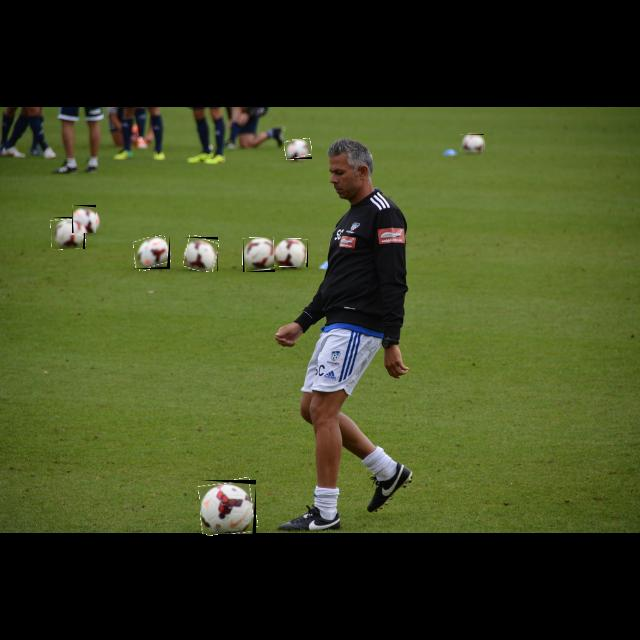Football: (200, 480, 256, 534), (184, 237, 218, 271), (134, 237, 170, 269), (51, 217, 85, 249), (243, 238, 275, 272), (274, 239, 308, 267), (72, 205, 96, 233), (284, 139, 312, 159), (460, 134, 484, 152)
